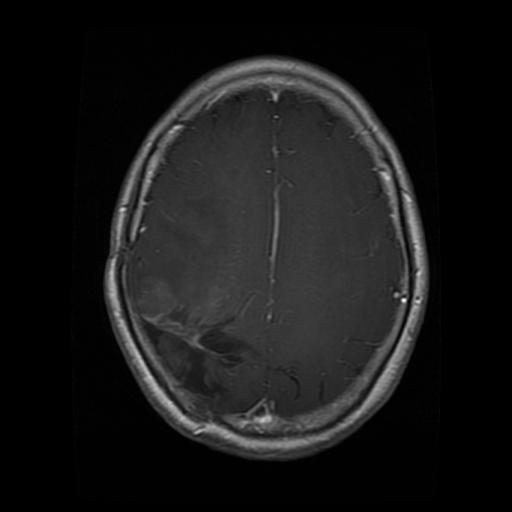glioma: (134, 275, 253, 405)
